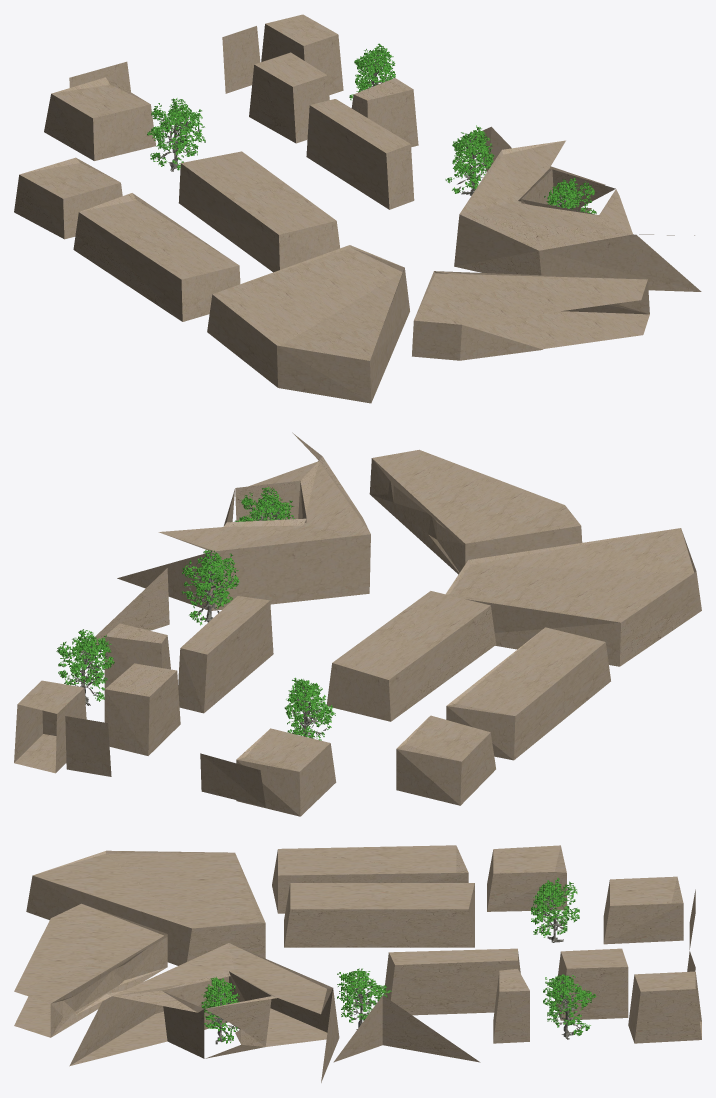
Rendered from tile_-2_-1.gltf.
3 views of the same model, one above another, from view 1: azimuth 30°, elevation 25°; view 2: azimuth 150°, elevation 25°; view 3: azimuth 270°, elevation 25° (orthographic). The views are drawn at different scales.
Visible parts, largest first — view 1: Plane.011@tile_-2_-1, Bodhi Tree_Bodhi_front_2_Mat_0.044@tile_-2_-1; view 2: Plane.011@tile_-2_-1, Bodhi Tree_Bodhi_front_2_Mat_0.044@tile_-2_-1; view 3: Plane.011@tile_-2_-1, Bodhi Tree_Bodhi_front_2_Mat_0.044@tile_-2_-1.
Part boxes in pixels (bbox=[...]): Plane.011@tile_-2_-1: bbox=[14, 14, 701, 403]; Bodhi Tree_Bodhi_front_2_Mat_0.044@tile_-2_-1: bbox=[147, 43, 596, 213]; Plane.011@tile_-2_-1: bbox=[14, 432, 701, 816]; Bodhi Tree_Bodhi_front_2_Mat_0.044@tile_-2_-1: bbox=[56, 487, 335, 740]; Plane.011@tile_-2_-1: bbox=[14, 845, 701, 1082]; Bodhi Tree_Bodhi_front_2_Mat_0.044@tile_-2_-1: bbox=[201, 877, 596, 1044].
Bounding box in the file's own units: 73.5 × 12.21 × 101.
3 materials, 2 textured.
